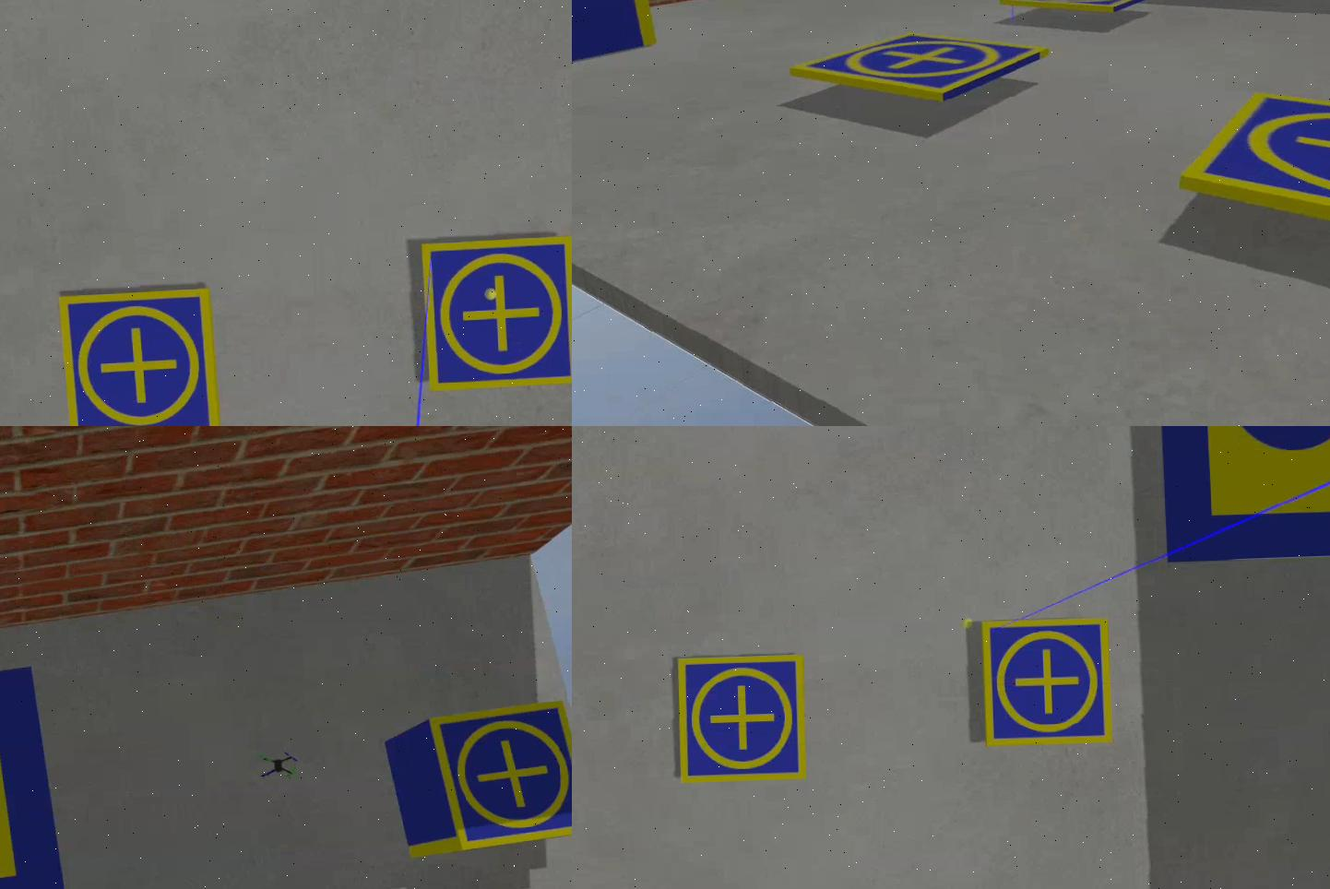large_base: (1160, 427, 1330, 564)
small_base: (1177, 78, 1330, 301), (420, 235, 573, 397), (57, 285, 223, 427), (423, 701, 573, 858), (791, 25, 1048, 105), (982, 622, 1117, 749), (678, 655, 806, 788), (1008, 1, 1161, 21)
